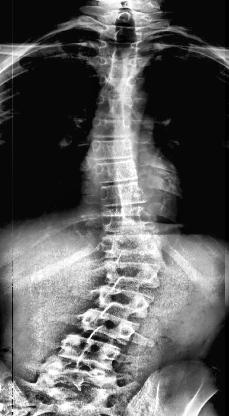Vertebrae: (42, 337, 126, 375), (99, 262, 171, 290), (74, 311, 140, 339), (96, 208, 160, 236), (98, 232, 166, 258), (90, 291, 154, 317), (92, 183, 150, 209), (89, 161, 142, 189), (89, 136, 136, 164), (87, 116, 137, 140), (92, 94, 136, 118), (96, 18, 144, 40), (96, 36, 144, 56), (100, 56, 146, 76), (98, 76, 140, 96)
